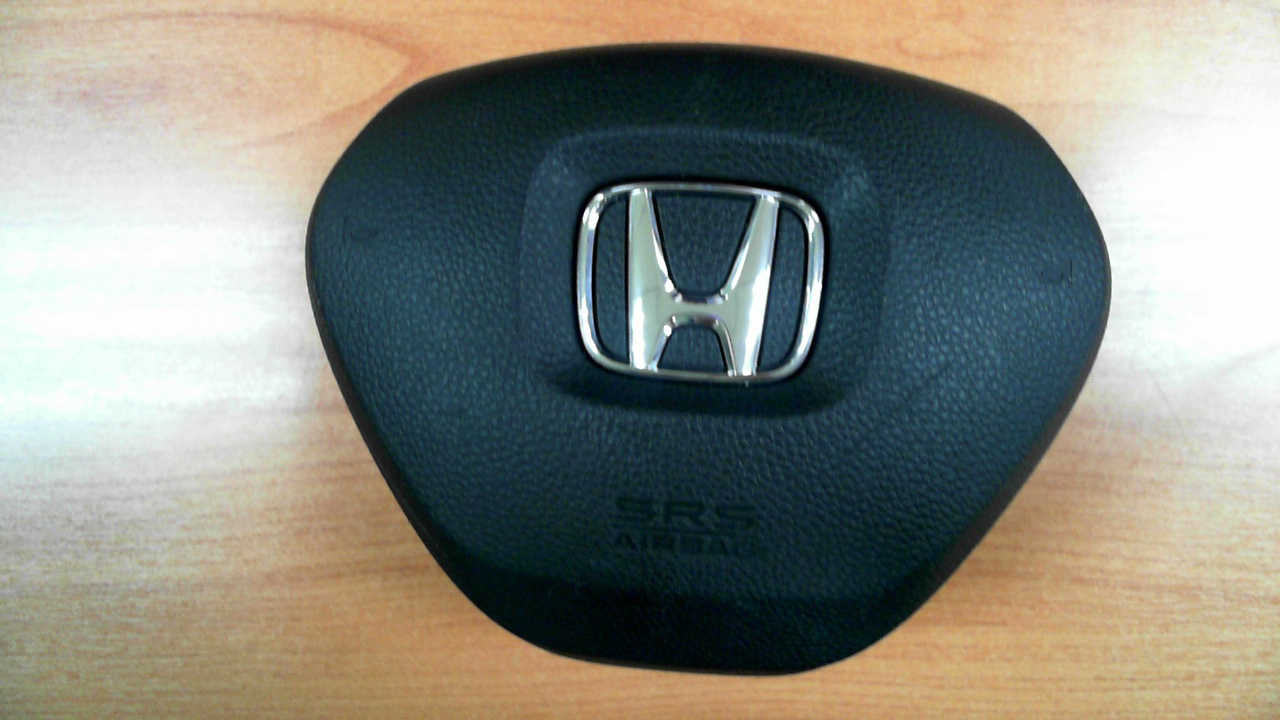Airbag: (302, 40, 1113, 680)
Honda: (575, 180, 825, 387)
